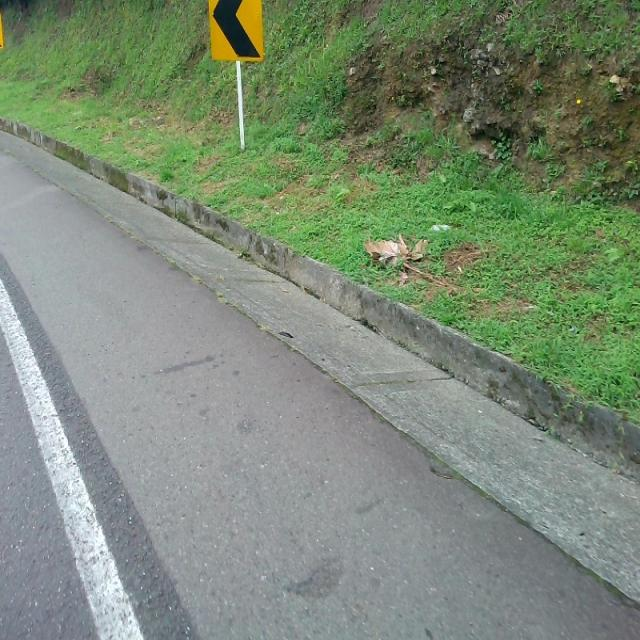DITCH: (51, 1, 638, 638), (1, 121, 639, 637)
